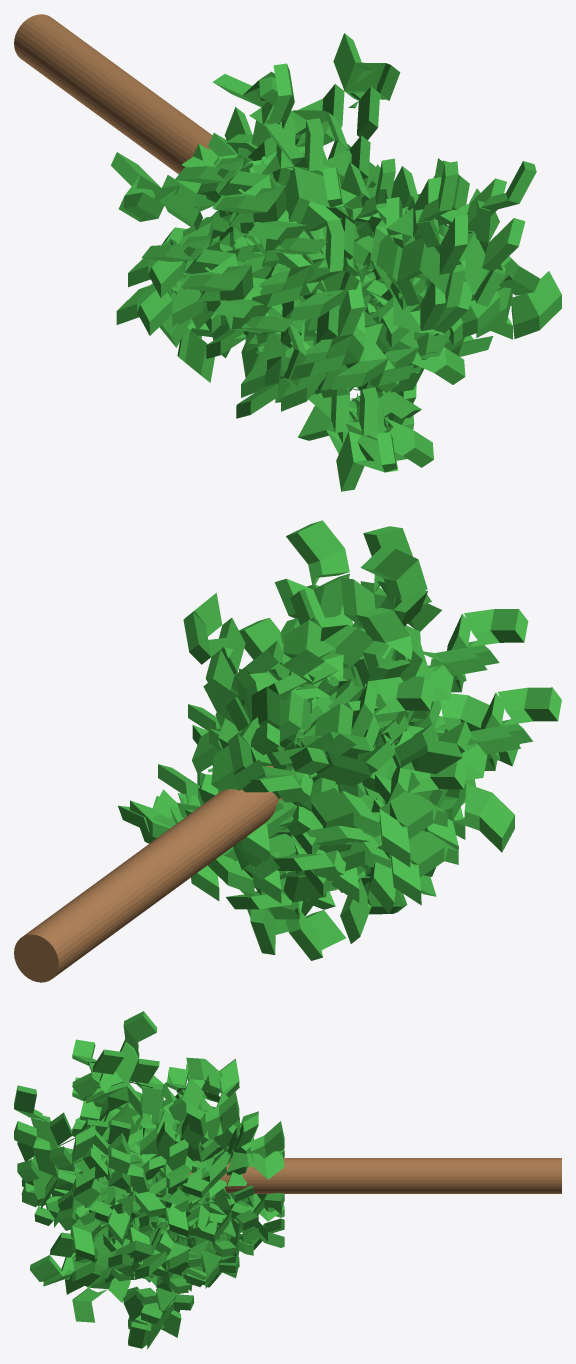
File: tinker.obj
3 renders of one model, top to bottom at view 1: azimuth 30°, elevation 25°; view 2: azimuth 150°, elevation 25°; view 3: azimuth 270°, elevation 25°, orthographic. The views are drawn at different scales.
Visible parts, largest first — view 1: group_0_4634441, group_0_11107152; view 2: group_0_4634441, group_0_11107152; view 3: group_0_4634441, group_0_11107152.
Part boxes in pixels (<box>): group_0_4634441: <box>111,33,561,491</box>; group_0_11107152: <box>14,14,325,240</box>; group_0_4634441: <box>118,520,561,960</box>; group_0_11107152: <box>14,749,283,982</box>; group_0_4634441: <box>14,1011,284,1349</box>; group_0_11107152: <box>189,1158,561,1193</box>.
Size of the model in its own units: 33 by 36.12 by 60.43.
